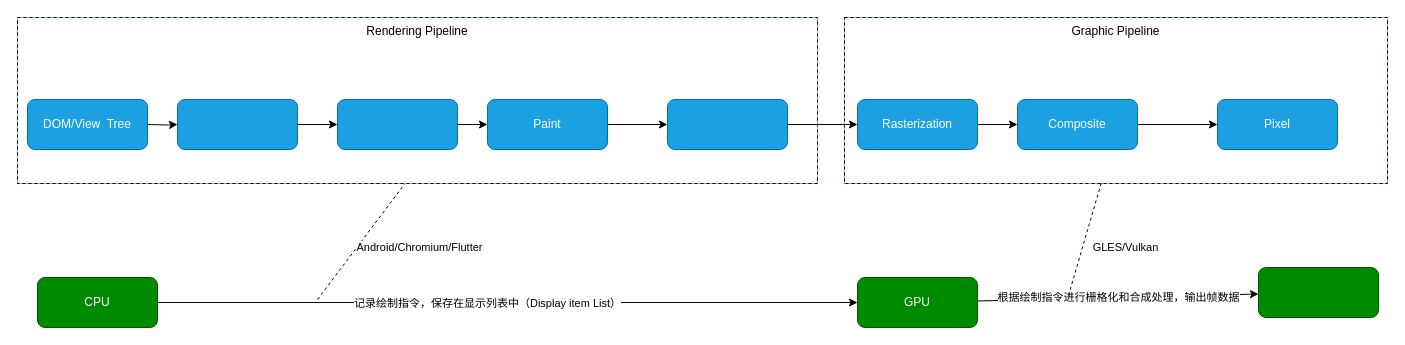
The diagram is 1405 pixels wide and 345 high, and some of its shapes have lost their labels. Each missing label, with the centre of its shape:
"Layerize" goes at (397,124).
"LayerTree （DisplayList）" goes at (727,124).
"Style&Layout" goes at (237,124).
"显示器" goes at (1318,292).
